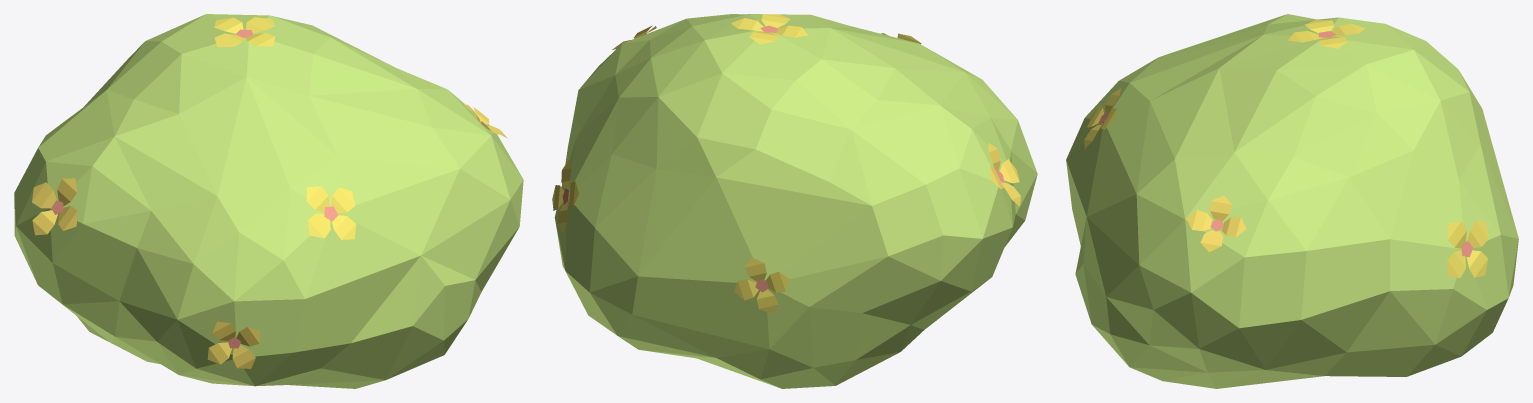
Rendered from FlowerBush_a_l_01.fbx.
3 views of the same model, side by side, from view 1: azimuth 30°, elevation 25°; view 2: azimuth 150°, elevation 25°; view 3: azimuth 270°, elevation 25° (orthographic).
Parts seen in each view (by area): view 1: FlowerBush_a_l_01_LOD0; view 2: FlowerBush_a_l_01_LOD0; view 3: FlowerBush_a_l_01_LOD0.
Part boxes in pixels (x1,y1,x2,y2): FlowerBush_a_l_01_LOD0: (14, 14, 523, 388); FlowerBush_a_l_01_LOD0: (552, 14, 1037, 388); FlowerBush_a_l_01_LOD0: (1066, 14, 1518, 388).
Size of what is drawn, in the model's own units: 326 by 222 by 279.
